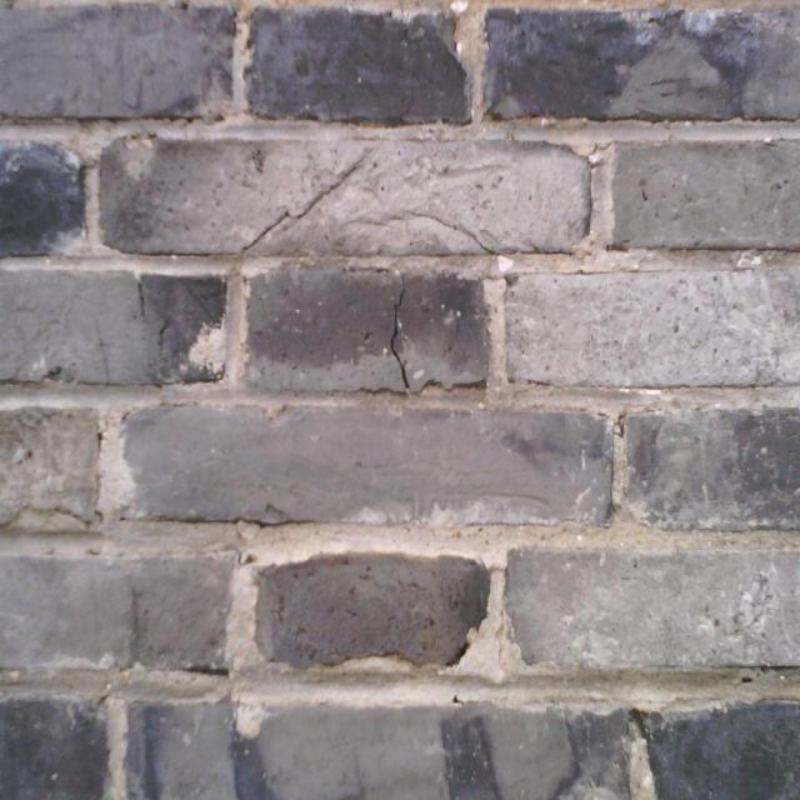pothole: (245, 151, 371, 251), (358, 215, 496, 255), (390, 277, 411, 389)
